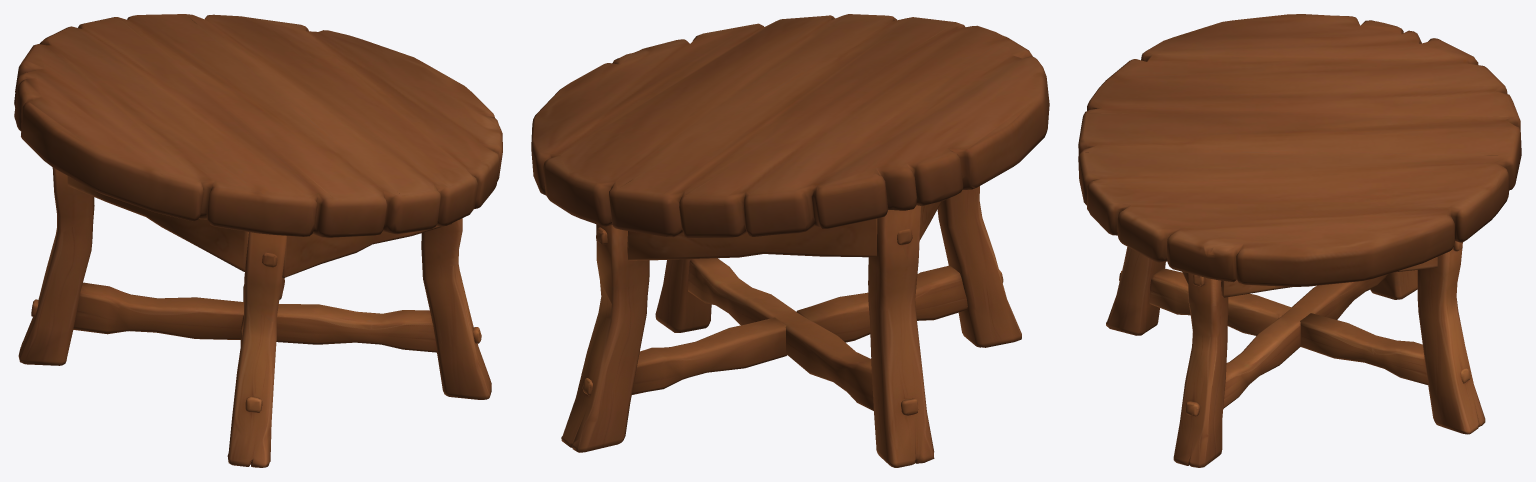
3 renders of one model, left to right at view 1: azimuth 30°, elevation 25°; view 2: azimuth 150°, elevation 25°; view 3: azimuth 270°, elevation 25°, orthographic. The views are drawn at different scales.
Parts seen in each view (by area): view 1: tripo_node_7334bd62-6e3b-47d3-8c89-9cb4b8ba47e8; view 2: tripo_node_7334bd62-6e3b-47d3-8c89-9cb4b8ba47e8; view 3: tripo_node_7334bd62-6e3b-47d3-8c89-9cb4b8ba47e8.
Boxes of the visible parts, x1=… form: tripo_node_7334bd62-6e3b-47d3-8c89-9cb4b8ba47e8: x1=14, y1=14, x2=502, y2=467; tripo_node_7334bd62-6e3b-47d3-8c89-9cb4b8ba47e8: x1=531, y1=14, x2=1049, y2=467; tripo_node_7334bd62-6e3b-47d3-8c89-9cb4b8ba47e8: x1=1078, y1=14, x2=1521, y2=467.
Size of the model in its own units: 0.998 by 0.709 by 0.998.
1 material, 1 textured.
